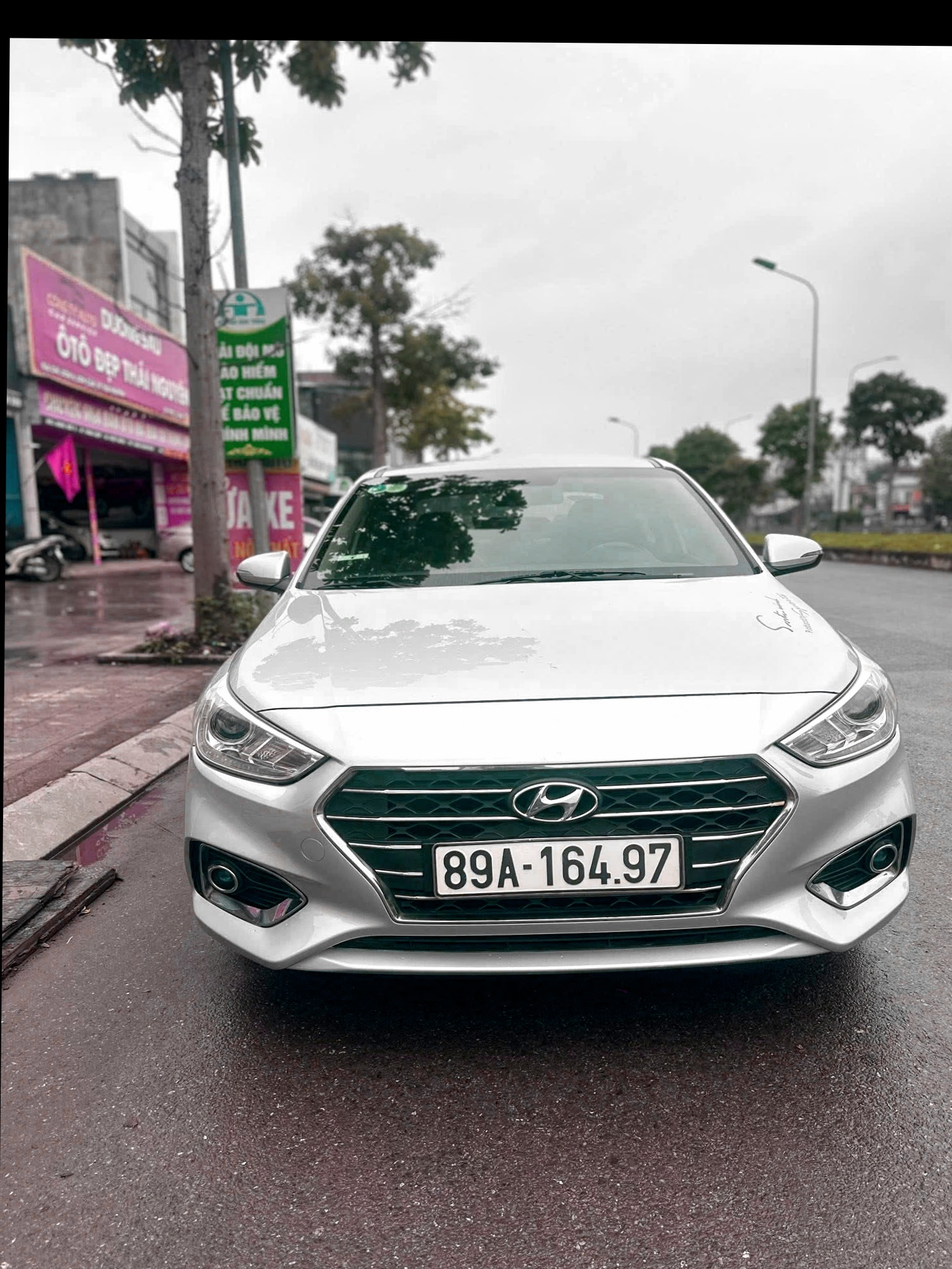Bien-so: (419, 811, 659, 871)
